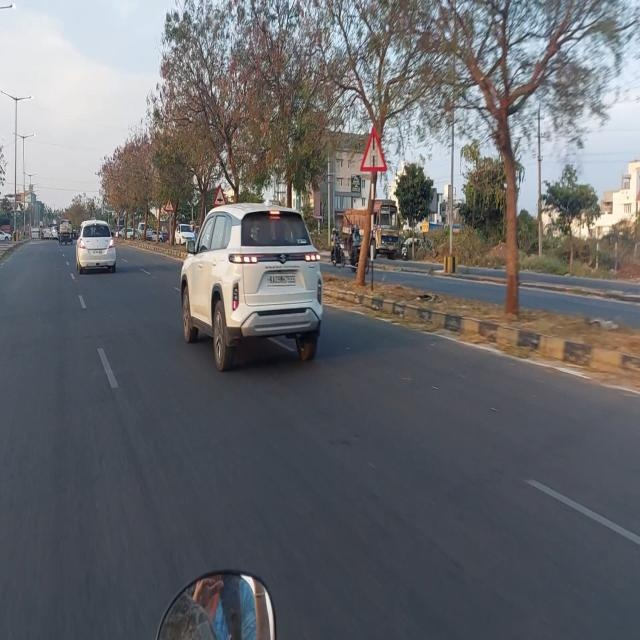bien_nguy_hiem: (358, 123, 387, 170), (213, 183, 226, 207), (164, 196, 174, 212)
